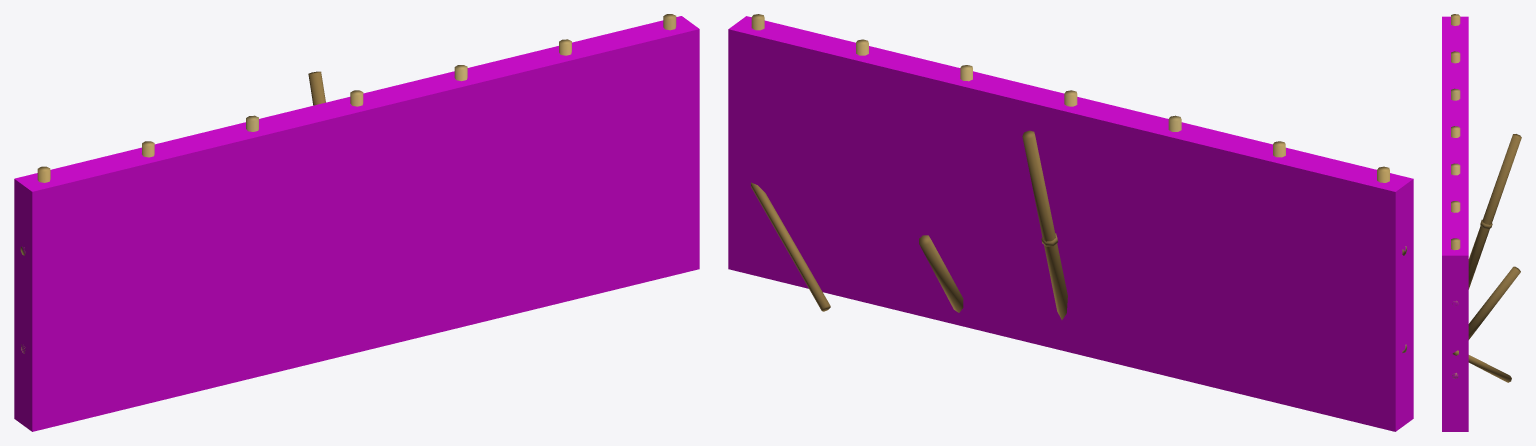
The model's file is PRP_Fence_Bamboo_A.glb.
3 views of the same model, side by side, from view 1: azimuth 30°, elevation 25°; view 2: azimuth 150°, elevation 25°; view 3: azimuth 270°, elevation 25° (orthographic). The views are drawn at different scales.
Visible parts, largest first — view 1: COL_Fence, STATE_repaired; view 2: COL_Fence, STATE_damaged, STATE_repaired; view 3: COL_Fence, STATE_damaged, STATE_repaired.
Boxes of the visible parts, bbox=[...] form: COL_Fence: bbox=[14, 16, 699, 431]; STATE_repaired: bbox=[21, 14, 676, 353]; COL_Fence: bbox=[728, 16, 1413, 431]; STATE_damaged: bbox=[751, 130, 1405, 319]; STATE_repaired: bbox=[751, 14, 1406, 352]; COL_Fence: bbox=[1442, 16, 1468, 431]; STATE_damaged: bbox=[1452, 134, 1521, 382]; STATE_repaired: bbox=[1451, 14, 1460, 378].
Bounding box in the file's own units: 3.21 × 1.17 × 0.4513.
